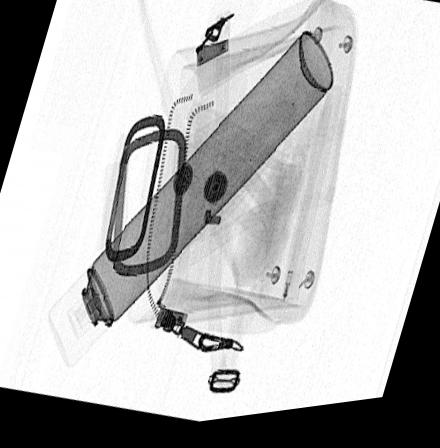Sprayer: (44, 36, 335, 372)
